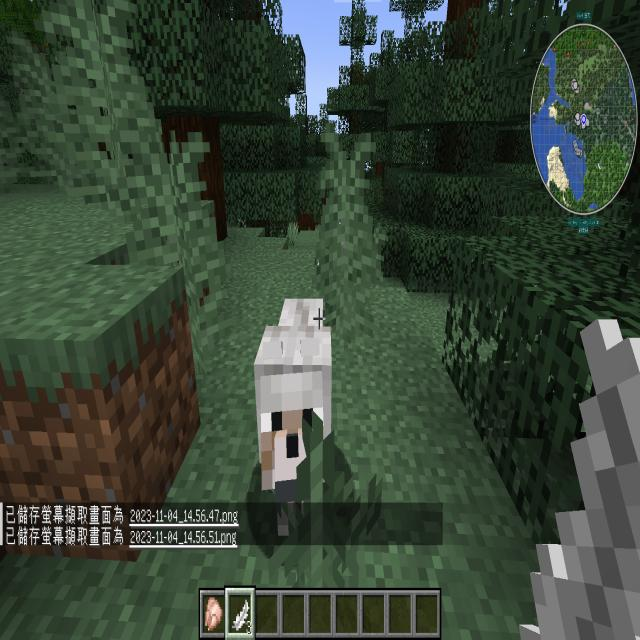Wolf: (240, 267, 360, 566)
